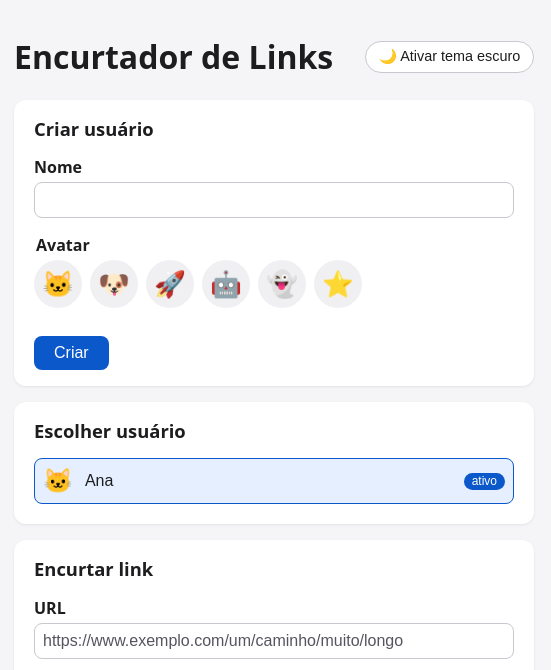
tela de encurtar link › erro vindo da camada de API aparece na tela
Expected: the text "Ana" is shown, [85,472,113,489]
Type "https://exemplo.com" into the field labelled "URL" at [274, 641], box [34,623,514,659]
(page scrolled)
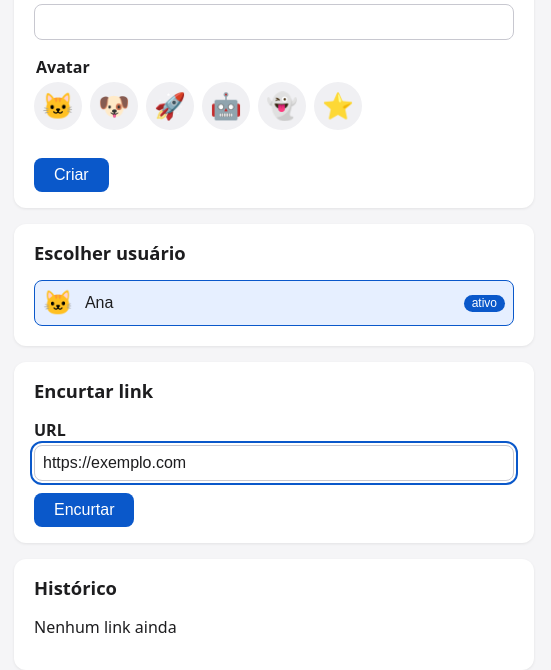
Click the button "Encurtar" at [84, 510], box [34,493,134,527]
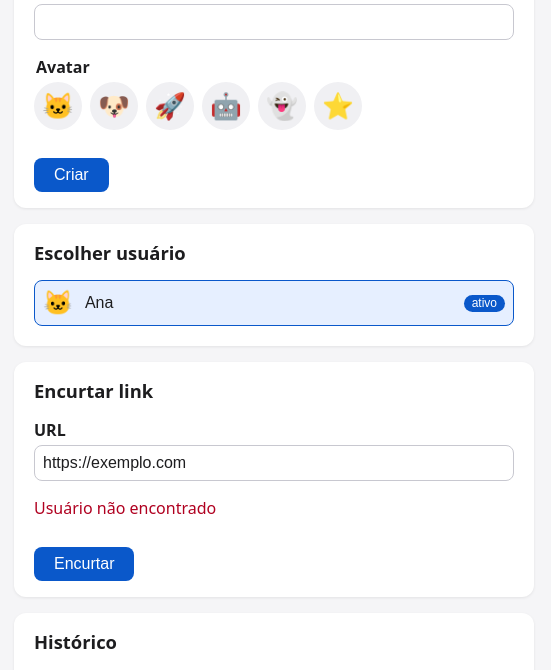
Now the message reads "Usuário não encontrado", box [34,497,216,519]
